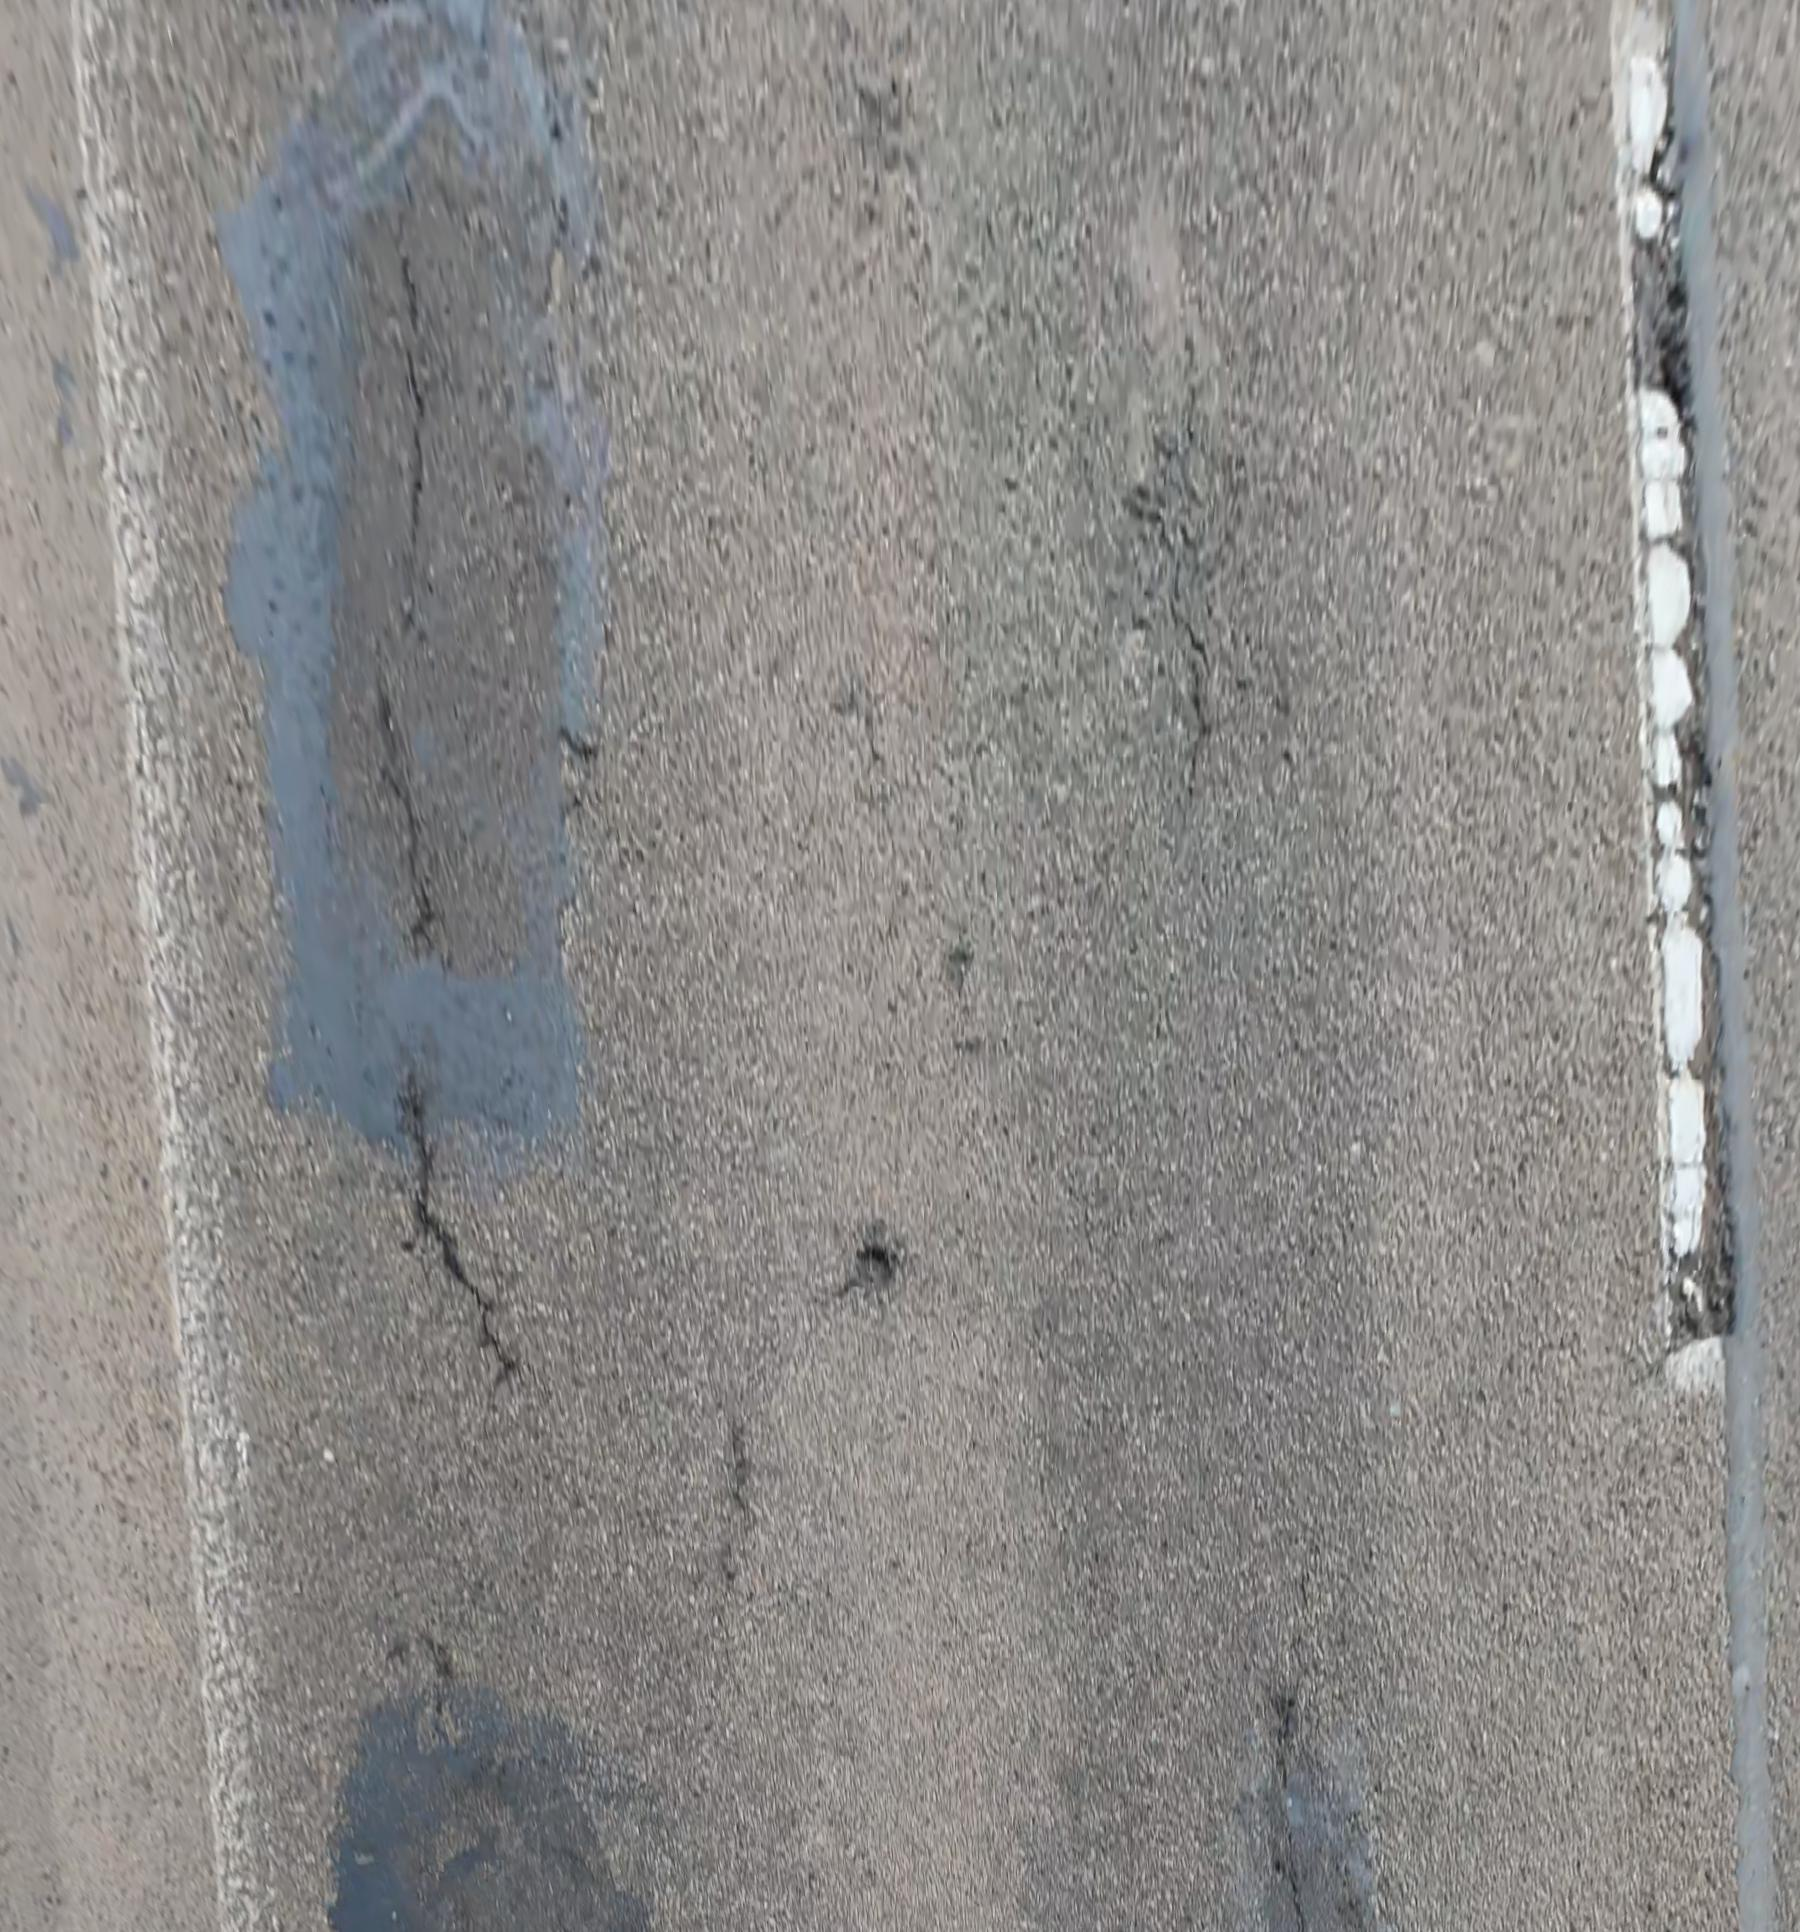pothole: (1626, 178, 1697, 443), (1656, 1232, 1736, 1360), (836, 1221, 912, 1311)
pothole_patch_good: (327, 1692, 648, 1932)
pothole_patch_poor: (217, 0, 597, 1154), (1227, 1748, 1386, 1932)
